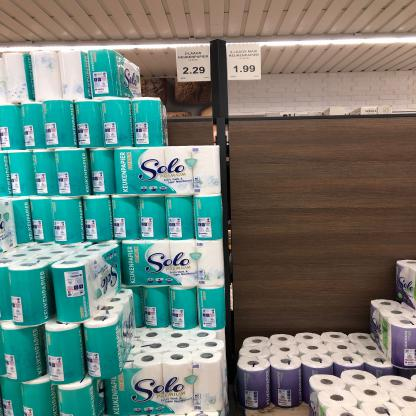prtg: (227, 44, 262, 82), (177, 46, 212, 83)
